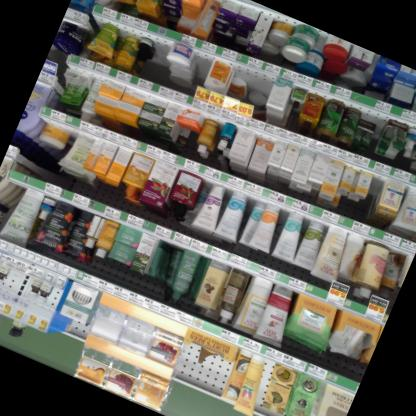empty_space: (144, 35, 176, 74), (188, 50, 213, 84), (363, 171, 388, 205), (244, 68, 273, 95), (357, 106, 388, 128)
